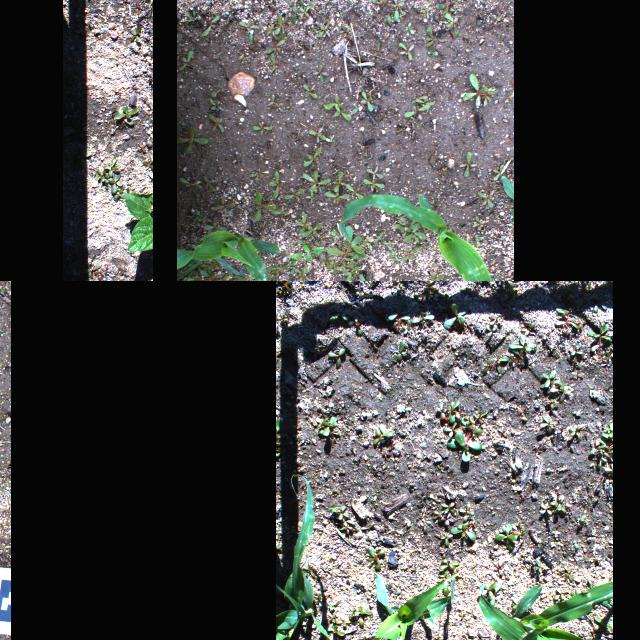crop: (338, 194, 507, 281), (276, 474, 352, 640), (463, 580, 612, 640), (352, 570, 460, 640), (177, 230, 278, 281), (119, 182, 153, 251), (502, 175, 514, 218)
weed: (448, 412, 488, 462), (326, 224, 366, 264), (461, 73, 497, 109), (591, 421, 613, 479), (588, 324, 612, 366), (443, 303, 473, 335), (507, 336, 538, 366), (495, 522, 525, 552), (177, 127, 209, 155), (252, 189, 278, 221), (388, 300, 412, 334), (276, 414, 294, 456), (550, 374, 574, 402), (301, 170, 331, 192), (85, 258, 113, 281), (458, 150, 479, 180), (295, 244, 325, 264), (482, 354, 511, 374), (403, 220, 427, 244), (125, 25, 146, 51), (442, 13, 463, 39), (114, 104, 138, 126), (316, 416, 338, 440), (200, 12, 220, 38), (437, 402, 463, 422), (451, 521, 477, 541), (556, 308, 582, 328), (267, 170, 283, 200), (346, 313, 366, 337), (403, 104, 431, 120), (133, 138, 153, 160), (426, 26, 446, 48), (302, 146, 322, 168), (345, 182, 367, 202), (350, 606, 372, 626), (435, 0, 459, 18), (328, 306, 354, 322), (396, 41, 416, 61), (373, 424, 393, 444), (207, 111, 226, 132), (333, 101, 352, 122), (110, 264, 134, 280), (368, 546, 384, 570), (143, 142, 153, 180), (310, 63, 328, 83), (365, 164, 385, 182), (477, 189, 495, 209), (178, 49, 194, 71), (332, 170, 348, 192), (283, 186, 305, 202), (212, 198, 234, 214), (268, 206, 290, 222), (274, 14, 288, 38), (362, 178, 386, 192), (178, 177, 202, 191), (328, 504, 349, 520), (314, 20, 332, 38), (308, 126, 326, 144), (479, 582, 497, 600), (388, 342, 406, 360), (540, 370, 558, 388), (391, 0, 405, 23), (252, 122, 272, 138), (324, 94, 344, 110), (302, 222, 322, 238), (328, 348, 344, 368), (324, 190, 350, 202), (202, 222, 228, 234), (360, 90, 374, 112), (201, 174, 217, 193), (302, 82, 318, 100), (295, 212, 307, 236), (292, 265, 310, 281), (206, 254, 224, 270), (458, 503, 474, 521), (550, 495, 566, 513), (592, 294, 608, 312), (222, 270, 248, 281), (265, 39, 285, 53), (492, 163, 506, 183), (108, 172, 120, 194), (238, 18, 260, 30), (266, 264, 288, 276), (402, 246, 418, 262), (318, 254, 334, 270), (338, 518, 354, 534), (533, 558, 549, 574), (343, 264, 358, 281), (386, 8, 400, 26), (265, 22, 279, 40), (208, 98, 226, 112), (390, 220, 408, 234), (540, 418, 558, 432), (594, 616, 612, 630), (197, 268, 216, 281), (439, 559, 459, 571), (491, 583, 501, 607), (104, 160, 118, 177), (298, 4, 312, 20), (472, 215, 486, 231), (440, 512, 456, 526), (412, 312, 434, 322), (346, 253, 359, 269), (275, 281, 292, 293), (266, 94, 280, 108), (401, 223, 415, 237), (286, 253, 300, 267), (443, 423, 457, 437), (490, 312, 504, 326), (568, 355, 582, 369), (247, 34, 259, 50), (290, 4, 300, 23), (371, 42, 384, 56), (210, 88, 223, 102), (428, 268, 442, 281), (441, 532, 454, 546), (419, 1, 431, 16), (411, 95, 429, 105), (269, 50, 277, 72), (438, 165, 448, 182), (346, 105, 359, 118), (312, 240, 326, 252), (326, 260, 338, 274), (336, 262, 350, 274), (570, 426, 582, 440), (441, 502, 455, 514), (554, 588, 568, 600), (522, 322, 534, 336), (404, 20, 414, 36), (247, 172, 263, 182), (415, 98, 435, 106), (296, 238, 312, 248), (564, 565, 574, 581), (331, 624, 344, 636), (199, 262, 211, 274), (540, 504, 552, 516), (316, 42, 326, 56), (305, 190, 315, 204), (330, 228, 340, 242), (424, 274, 444, 281), (358, 274, 378, 281), (474, 233, 484, 247), (302, 566, 316, 576), (314, 593, 324, 607), (569, 344, 583, 354), (546, 399, 560, 409), (115, 186, 124, 200), (186, 12, 198, 22), (274, 102, 284, 114), (373, 230, 383, 242), (264, 269, 276, 279), (183, 275, 203, 281), (276, 314, 288, 324), (437, 570, 447, 582), (486, 324, 496, 336), (416, 244, 429, 253), (424, 281, 437, 290), (97, 168, 105, 182), (425, 50, 439, 58), (195, 209, 203, 223), (364, 235, 372, 249), (442, 582, 450, 596), (318, 98, 329, 108), (371, 0, 388, 6), (284, 102, 294, 112), (344, 170, 354, 180), (386, 243, 396, 253), (391, 257, 401, 267), (434, 510, 444, 520), (420, 342, 430, 352), (450, 6, 462, 14), (409, 116, 417, 128), (430, 193, 438, 205), (304, 620, 312, 632), (496, 281, 514, 286), (392, 251, 400, 261), (326, 604, 336, 612), (327, 612, 335, 622), (570, 590, 580, 598), (289, 263, 295, 275), (466, 610, 478, 616), (319, 408, 326, 418), (177, 119, 185, 127), (267, 220, 275, 228), (212, 273, 220, 281), (278, 0, 290, 5), (314, 184, 324, 190), (384, 240, 394, 246), (458, 613, 468, 619), (374, 185, 382, 192), (404, 121, 411, 129), (578, 281, 591, 285), (258, 167, 262, 175), (330, 136, 332, 142)
